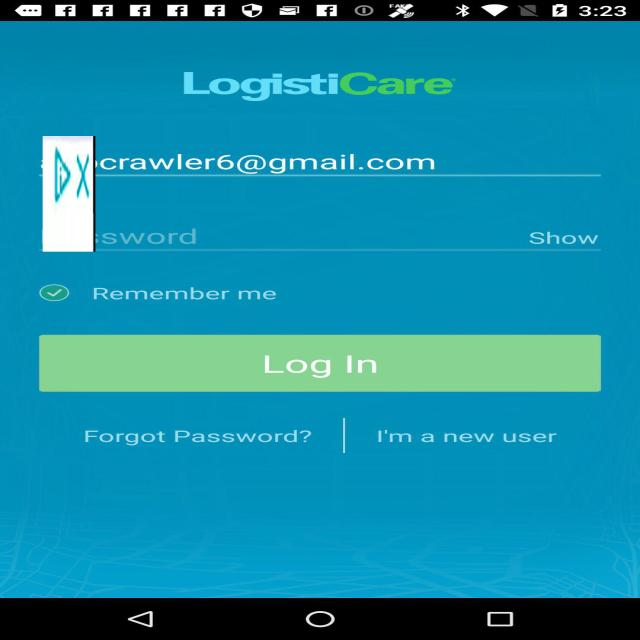sneaking: (43, 136, 95, 252)
